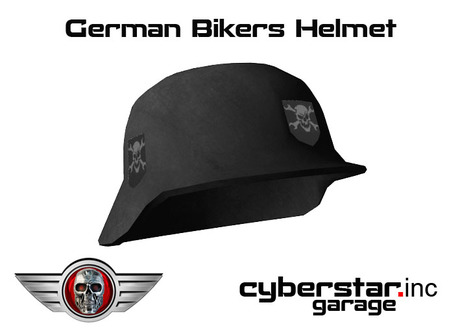with_helmet: (94, 61, 371, 248)
